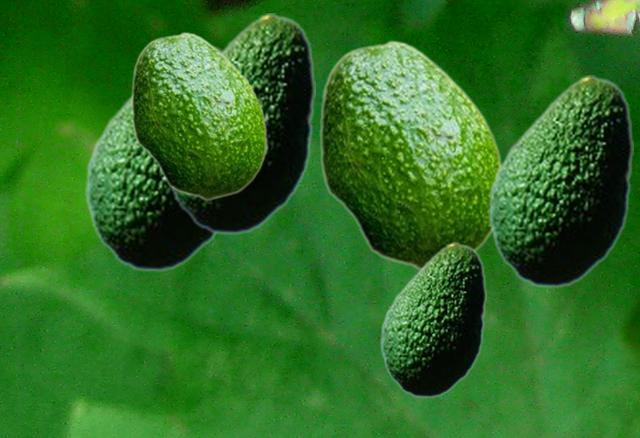avocado: (318, 39, 502, 269), (166, 13, 314, 234), (85, 41, 222, 271), (488, 75, 632, 287), (130, 31, 266, 199), (380, 242, 485, 397)
